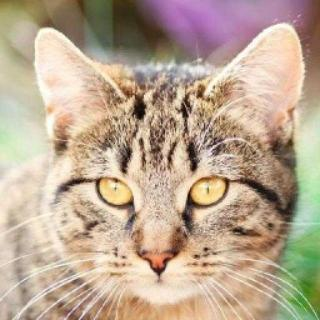cat: (32, 23, 303, 301)
nose: (132, 211, 183, 280)
